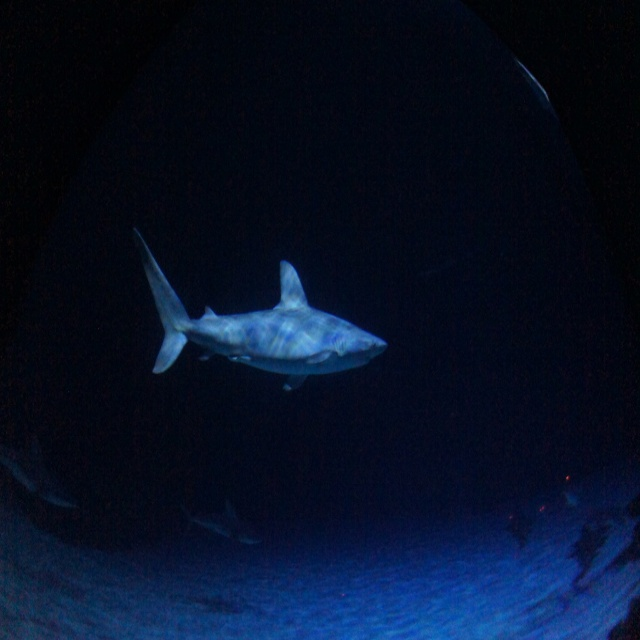Shark: (132, 233, 387, 392)
